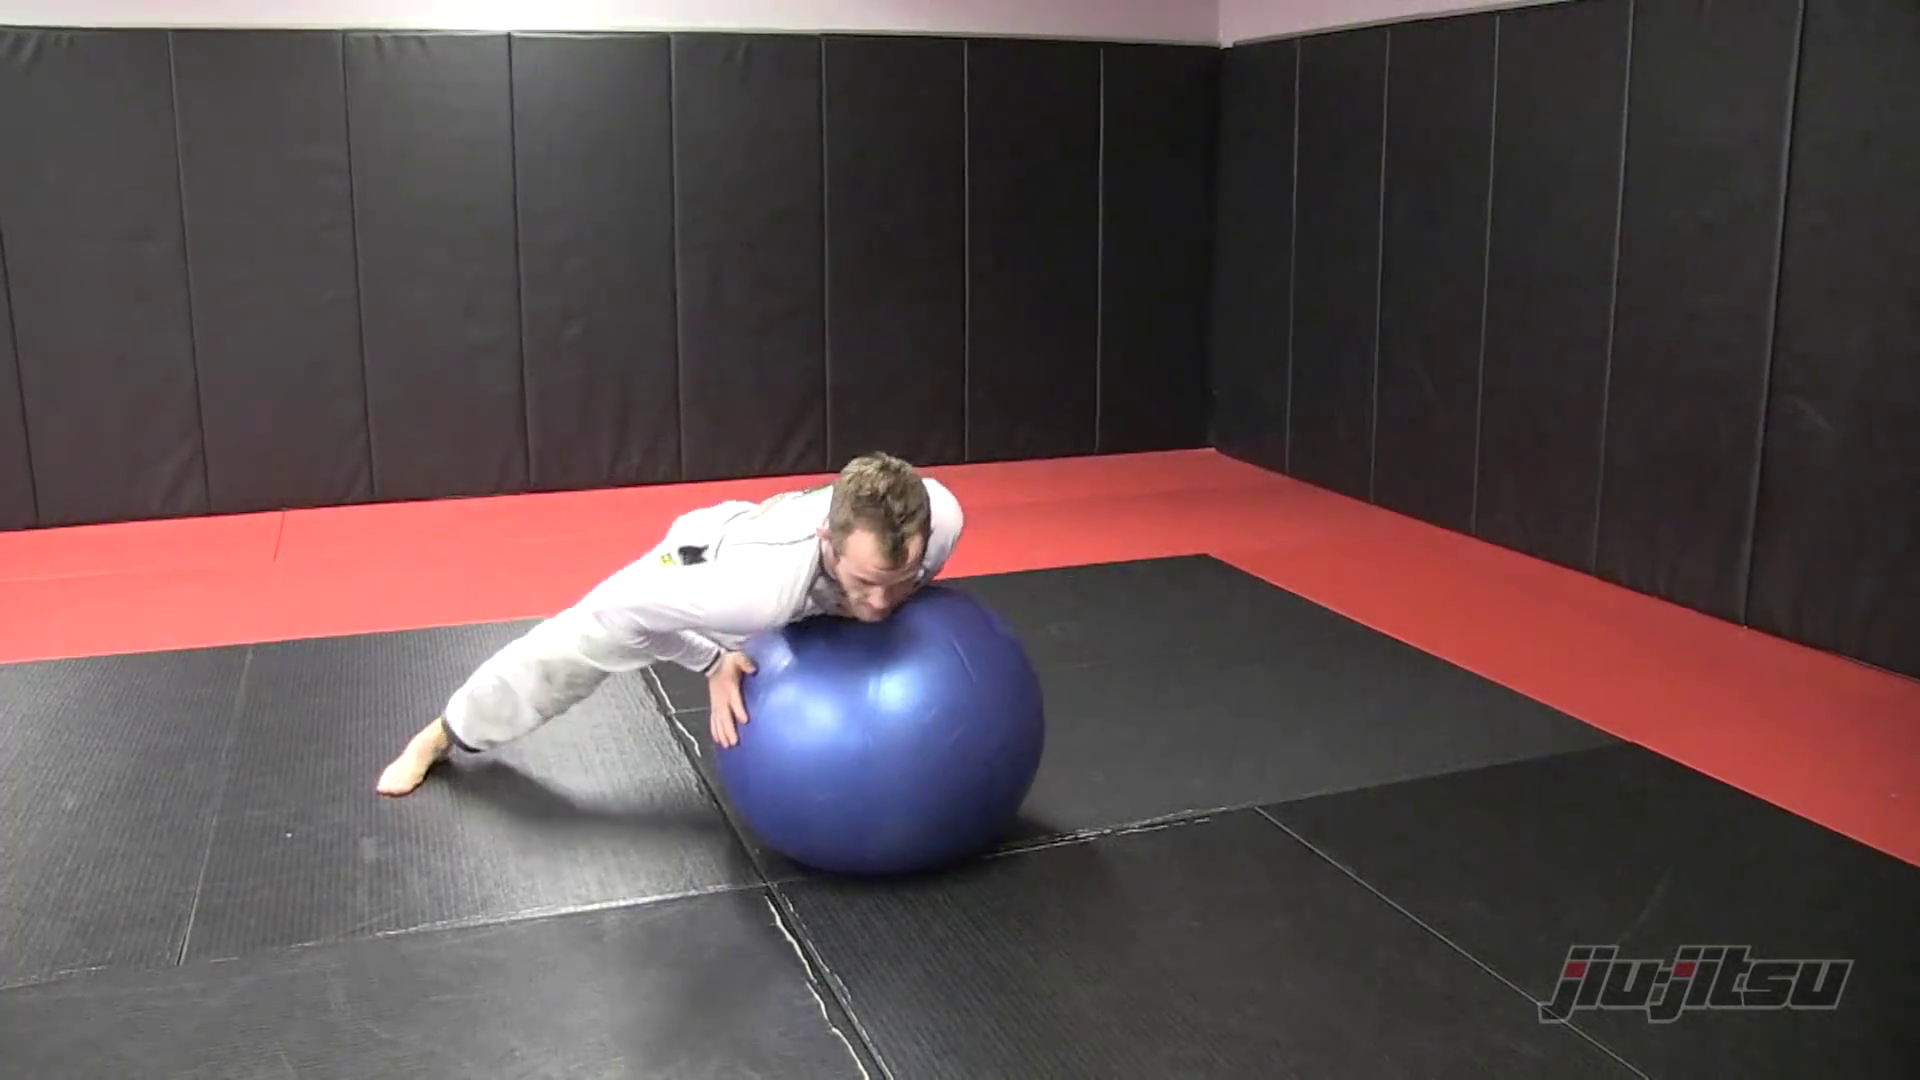yogaball: (723, 595, 1120, 899)
